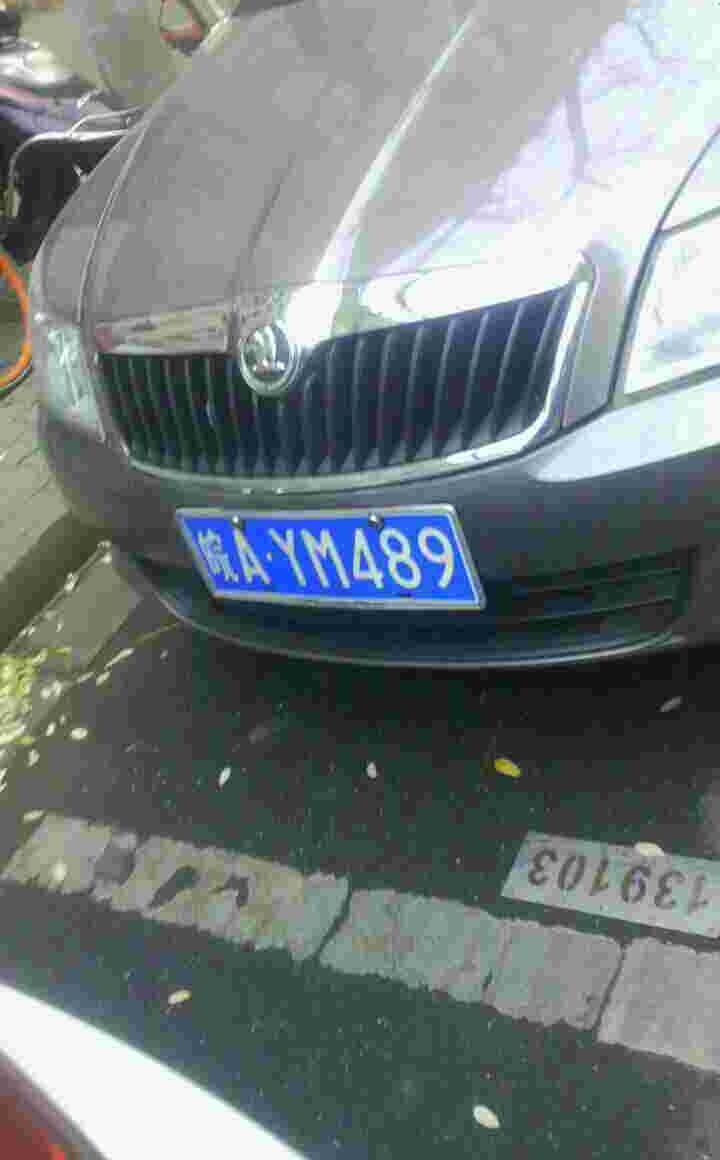license_plate: (185, 507, 480, 607)
